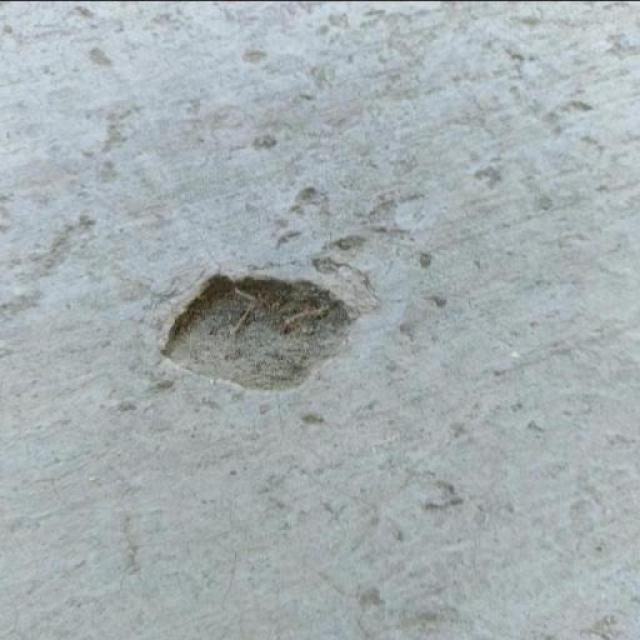D10: (159, 271, 350, 391)
